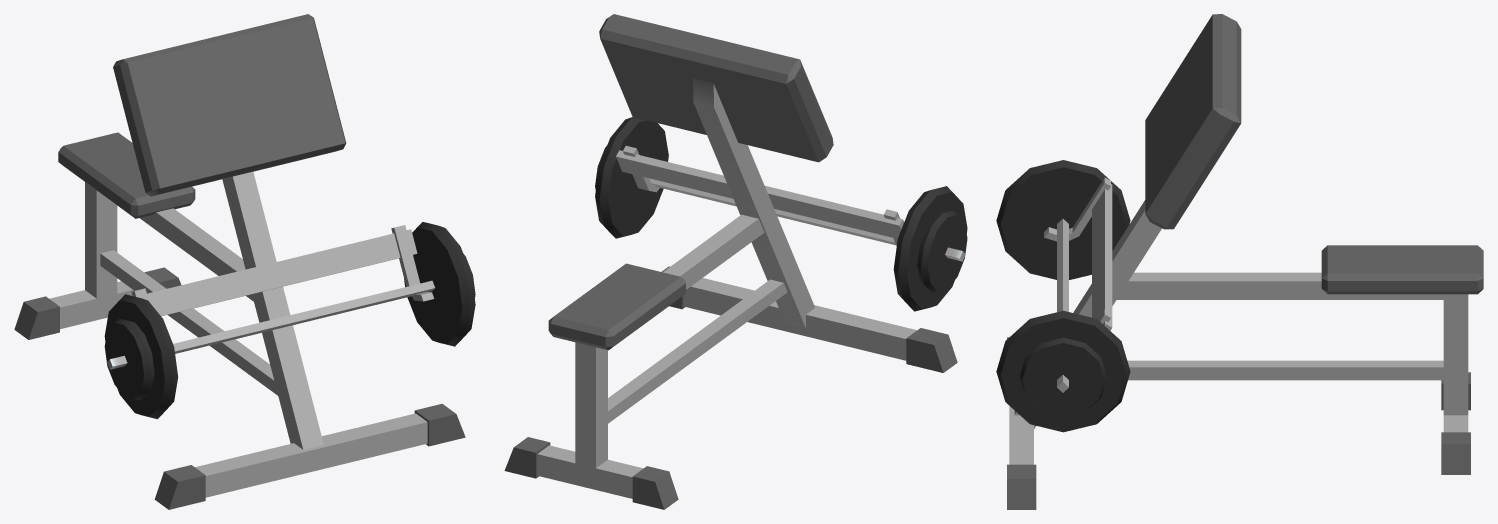
The model's file is Pesas04.fbx.
3 renders of one model, left to right at view 1: azimuth 30°, elevation 25°; view 2: azimuth 150°, elevation 25°; view 3: azimuth 270°, elevation 25°, orthographic. The views are drawn at different scales.
Visible parts, largest first — view 1: Pesas04; view 2: Pesas04; view 3: Pesas04.
Boxes of the visible parts, box(x1,y1,x2,y2) form: Pesas04: box(14, 14, 475, 509); Pesas04: box(504, 14, 967, 509); Pesas04: box(996, 14, 1483, 509).
Size of the model in its own units: 136 by 130 by 153.
